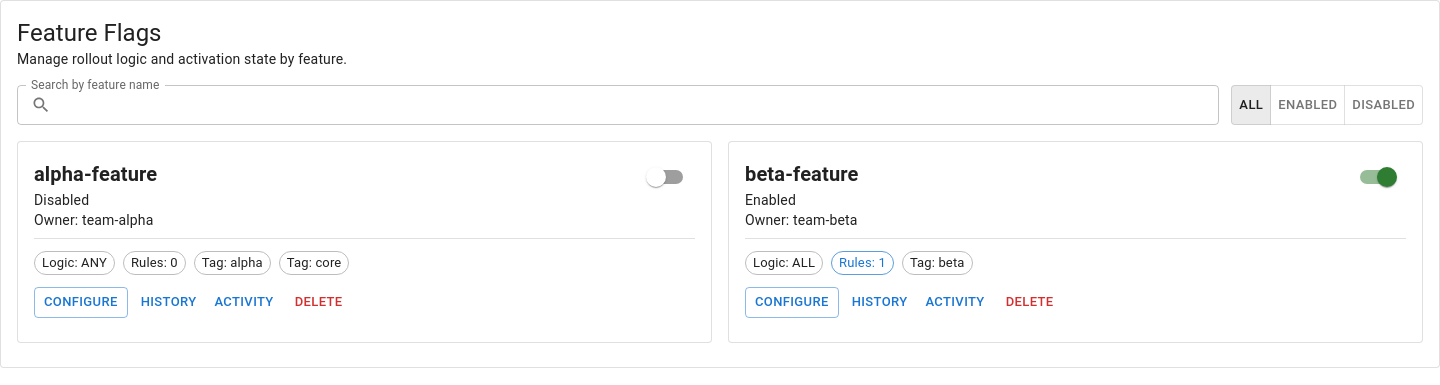
Test: FeatureGrid › filters by search text
Expected: the heading "alpha-feature" is shown, [34, 158, 157, 190]
Expected: the heading "beta-feature" is shown, [745, 158, 858, 190]
Type "alpha" into the field labelled "Search by feature name" at (639, 105), box [59, 85, 1219, 125]
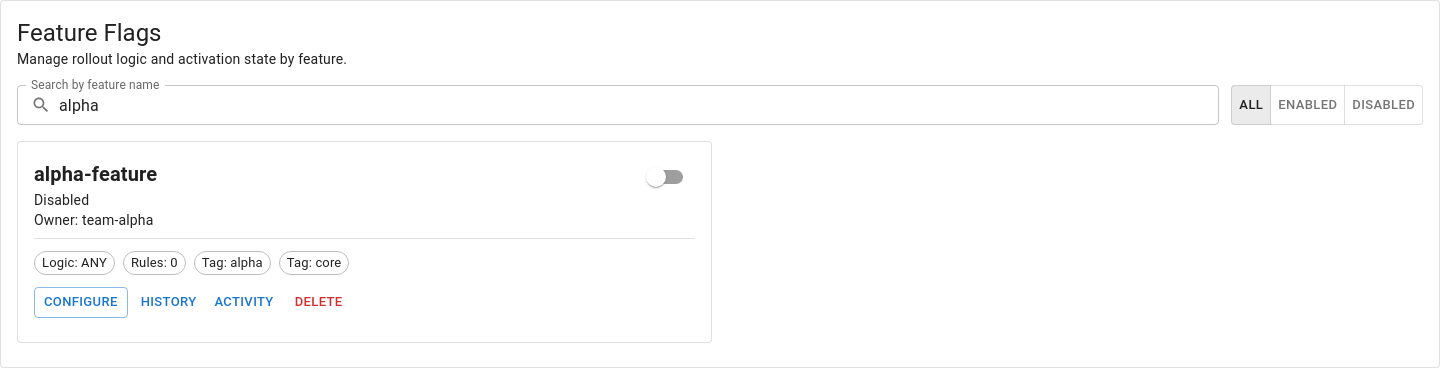
Expected: the heading "alpha-feature" is shown, [34, 158, 157, 190]
Expected: the heading "beta-feature" is gone
Replace the text in the field labelled "Search by feature name" with "team-beta" at (639, 105), box [59, 85, 1219, 125]
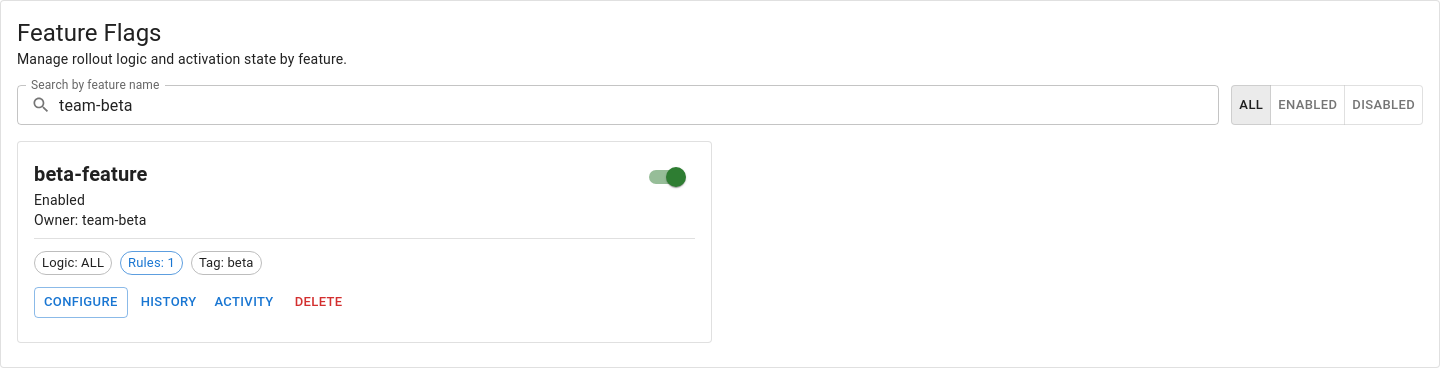
Expected: the heading "beta-feature" is shown, [34, 158, 148, 190]
Expected: the heading "alpha-feature" is gone
Replace the text in the field labelled "Search by feature name" with "core" at (639, 105), box [59, 85, 1219, 125]
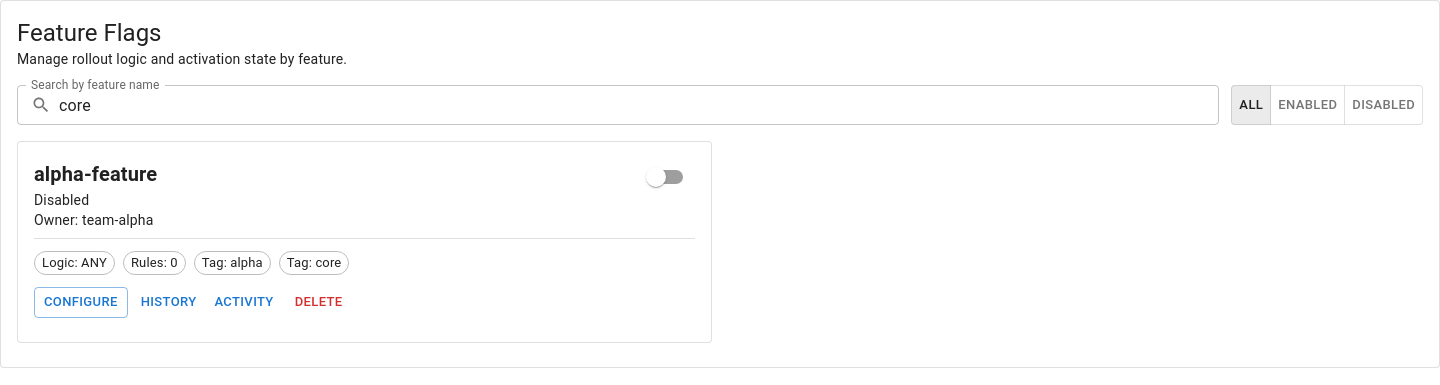
Expected: the heading "alpha-feature" is shown, [34, 158, 157, 190]
